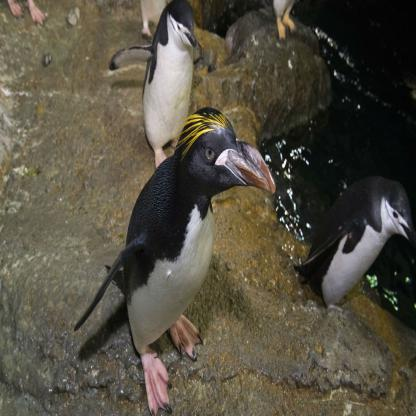Penguin: (78, 98, 284, 416), (292, 134, 416, 342), (102, 2, 225, 191)
